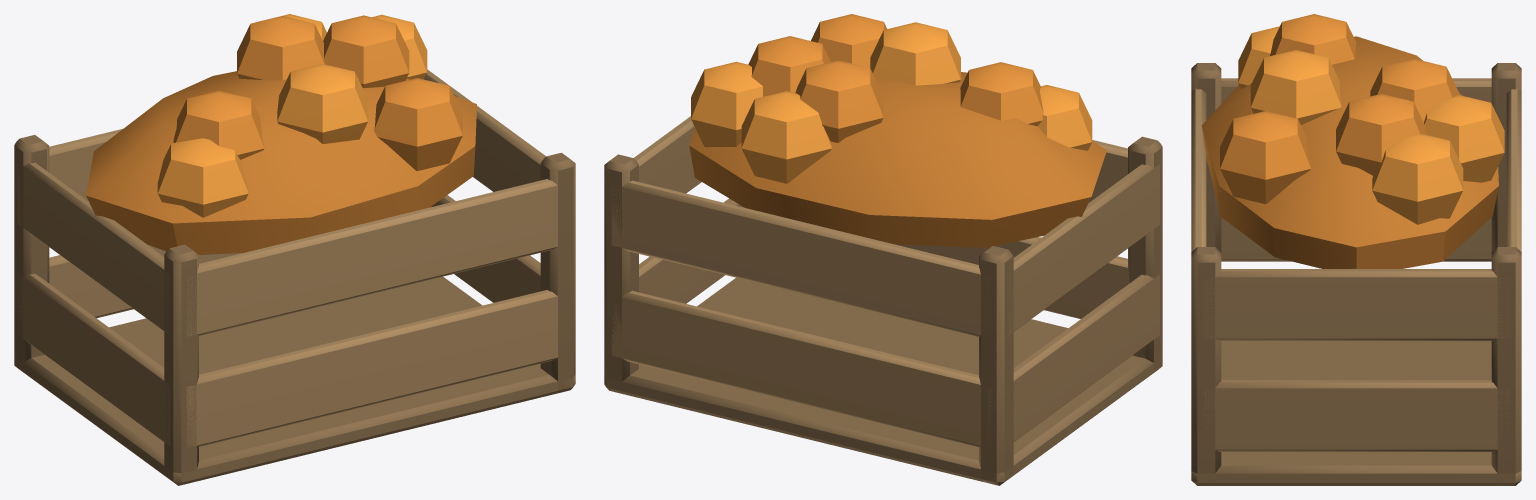
File: fruit-crate.glb
3 renders of one model, left to right at view 1: azimuth 30°, elevation 25°; view 2: azimuth 150°, elevation 25°; view 3: azimuth 270°, elevation 25°, orthographic.
Parts seen in each view (by area): view 1: fruit-crate; view 2: fruit-crate; view 3: fruit-crate.
Boxes of the visible parts, x1,y1,x2,y2 form: fruit-crate: (14, 14, 575, 485); fruit-crate: (604, 14, 1162, 485); fruit-crate: (1191, 14, 1521, 485).
Bounding box in the file's own units: 0.6319 × 0.4945 × 0.44.
